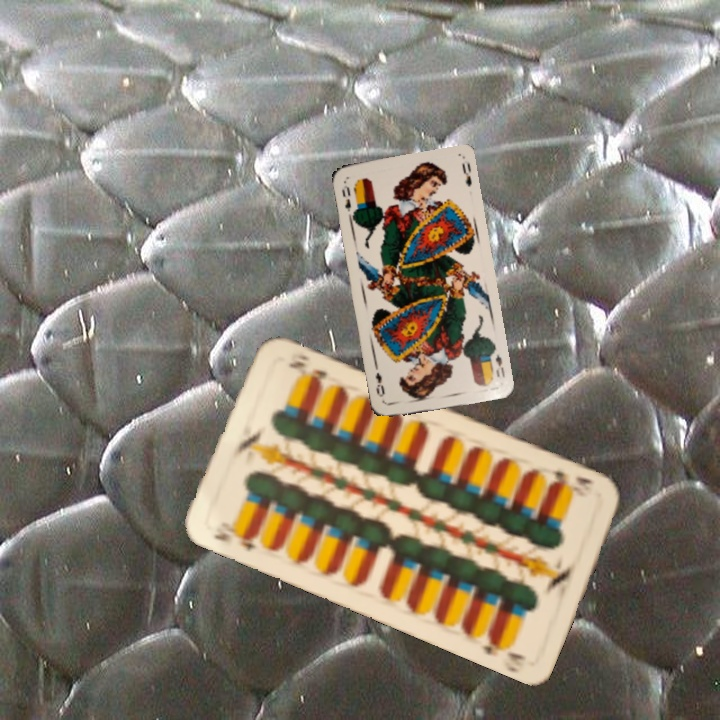E10: (209, 527, 260, 554), (548, 466, 597, 488)
EO: (338, 181, 358, 218), (491, 350, 508, 380)
